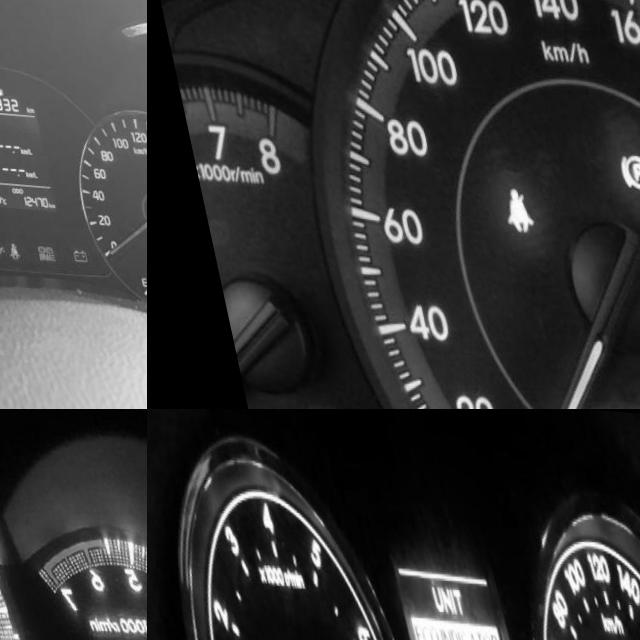Seat Belt: (487, 178, 523, 227)
